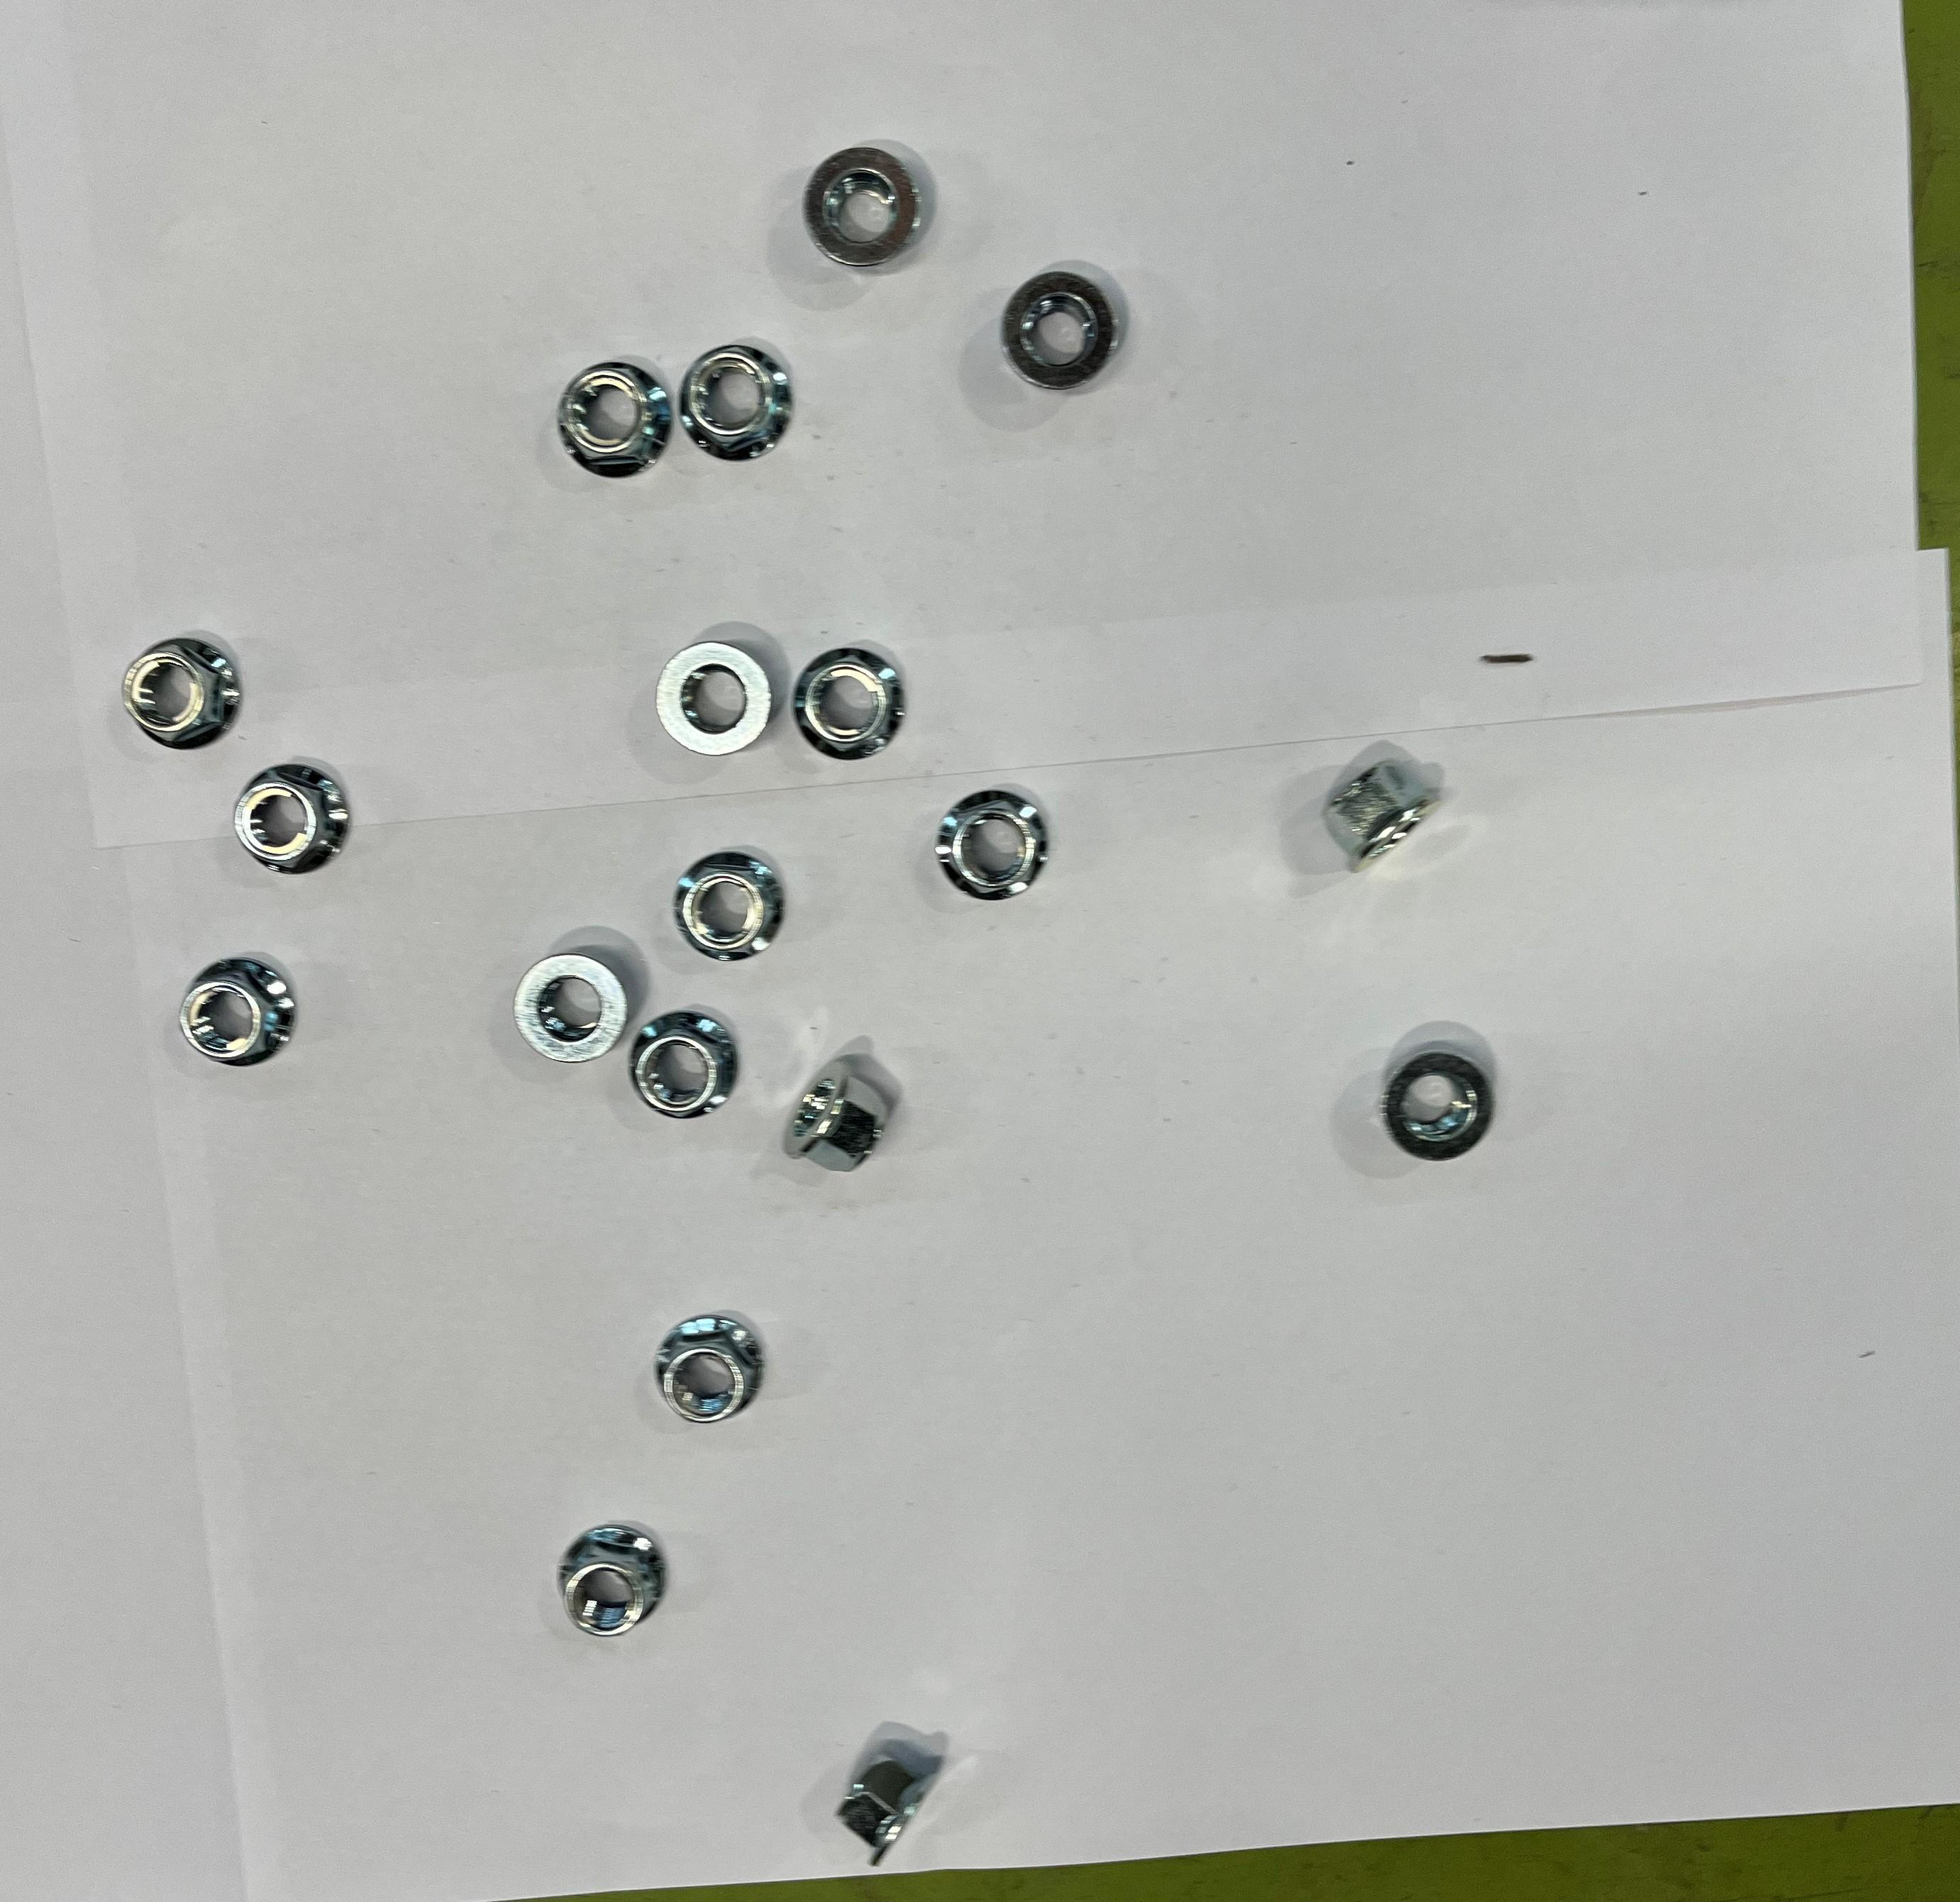Type B: (807, 143, 933, 268), (1004, 269, 1129, 390), (677, 343, 801, 460), (227, 765, 357, 877), (1326, 756, 1442, 875), (1375, 1048, 1494, 1164), (793, 640, 906, 761), (658, 640, 777, 754), (549, 1526, 667, 1640), (555, 364, 668, 479), (786, 1059, 899, 1174), (511, 950, 623, 1066), (122, 642, 240, 752), (178, 959, 299, 1066), (936, 791, 1050, 899), (672, 852, 786, 959), (646, 1318, 763, 1421), (833, 1755, 941, 1864), (632, 1011, 740, 1118)
